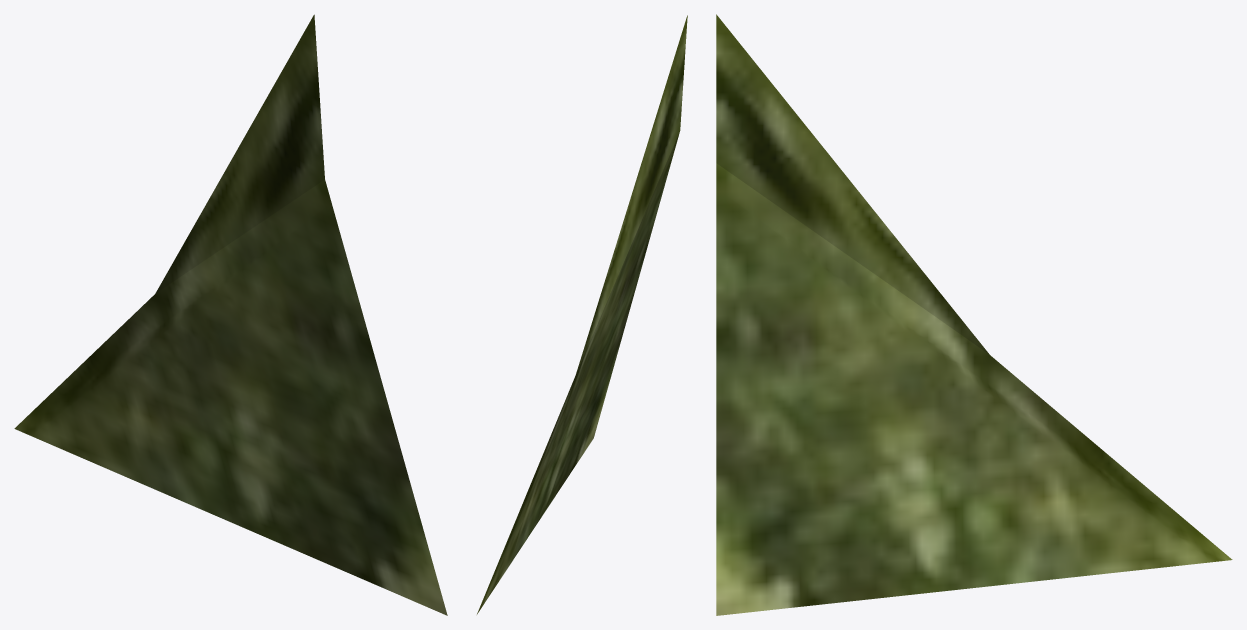
3 views of the same model, side by side, from view 1: azimuth 30°, elevation 25°; view 2: azimuth 150°, elevation 25°; view 3: azimuth 270°, elevation 25° (orthographic). The views are drawn at different scales.
Bounding box in the file's own units: 0.2186 × 0.9942 × 0.8525.
Materials: 1 (1 with a texture image).
